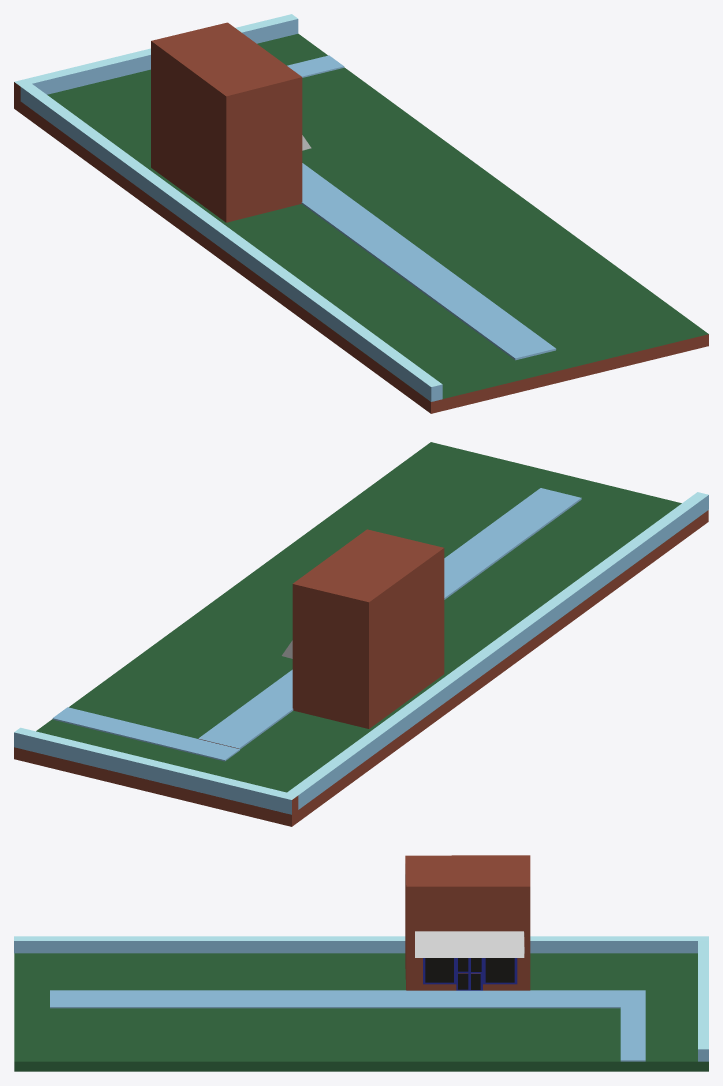
The picture shows the model from 3 angles, top to bottom: view 1: azimuth 30°, elevation 25°; view 2: azimuth 150°, elevation 25°; view 3: azimuth 270°, elevation 25°; orthographic projection. The views are drawn at different scales.
Parts seen in each view (by area): view 1: Cube; view 2: Cube; view 3: Cube.
Part boxes in pixels (x1=…): Cube: x1=14, y1=14, x2=708, y2=413; Cube: x1=14, y1=442, x2=708, y2=826; Cube: x1=14, y1=855, x2=708, y2=1071.
Bounding box in the file's own units: 7.3 × 3.49 × 18.99.
